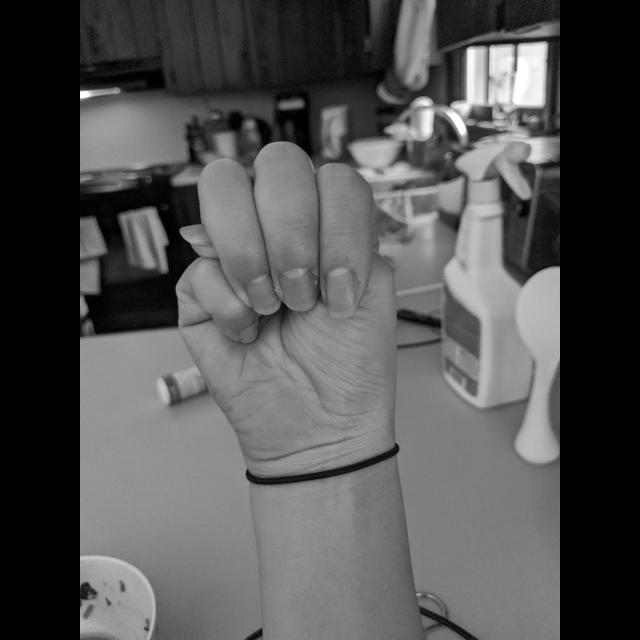M: (167, 134, 407, 450)
